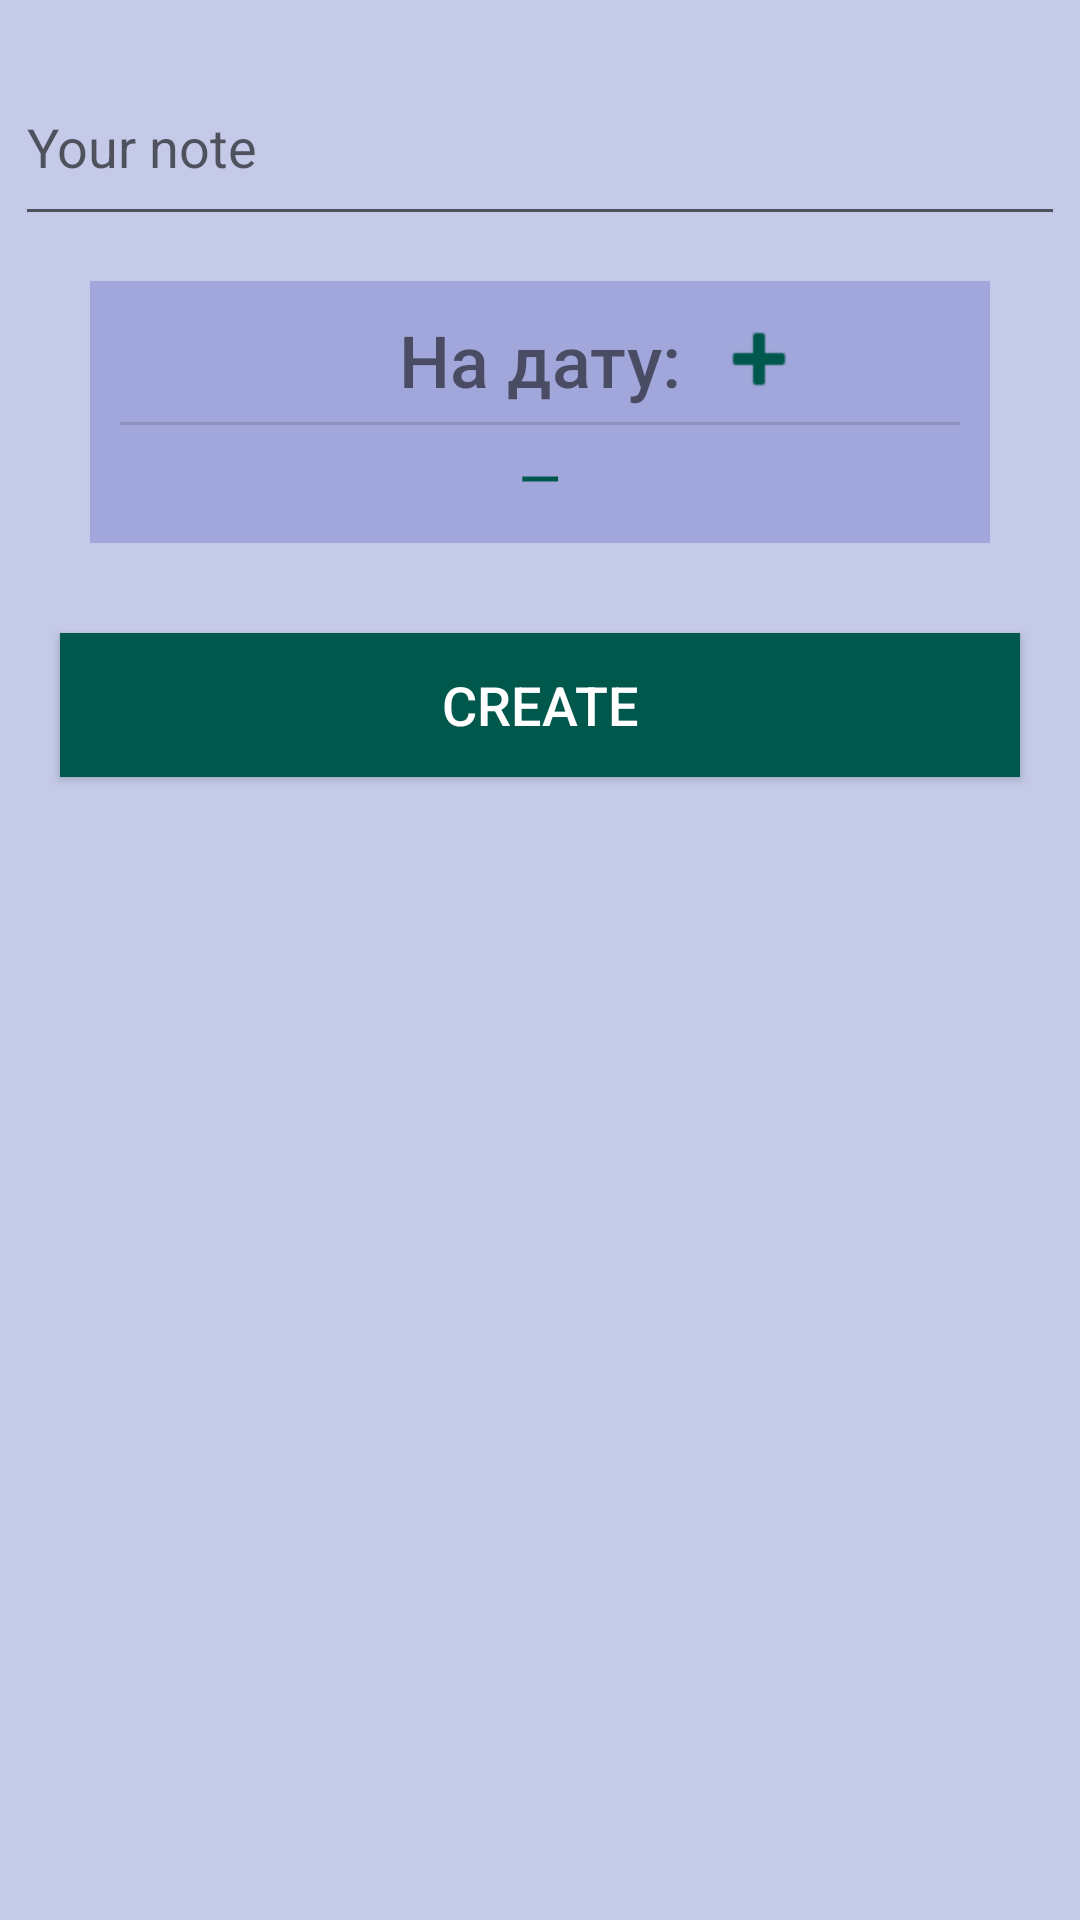

Icons on this 1080 x 1920 Android screen, each with its box as (x1, y1, x2, y2):
add: (732, 332, 786, 386)
